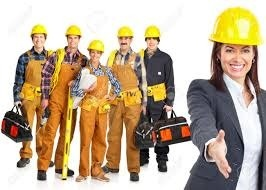helmet: (207, 5, 266, 48), (63, 23, 84, 38), (114, 25, 135, 39), (86, 40, 107, 54), (28, 24, 50, 36), (143, 25, 161, 38)
person with partial safety: (181, 6, 266, 181), (139, 21, 179, 173), (109, 24, 142, 179), (82, 40, 110, 182), (54, 21, 89, 79), (22, 24, 52, 82)
